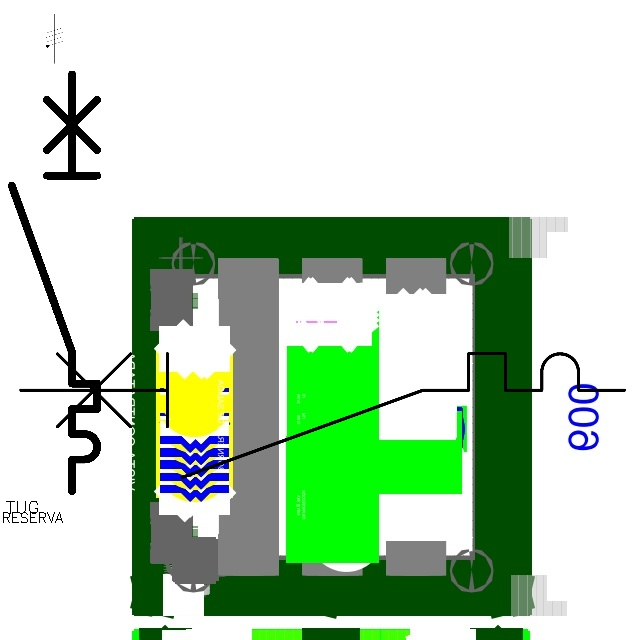interruptor_termomagnetico: (5, 338, 640, 493), (1, 63, 108, 502)
